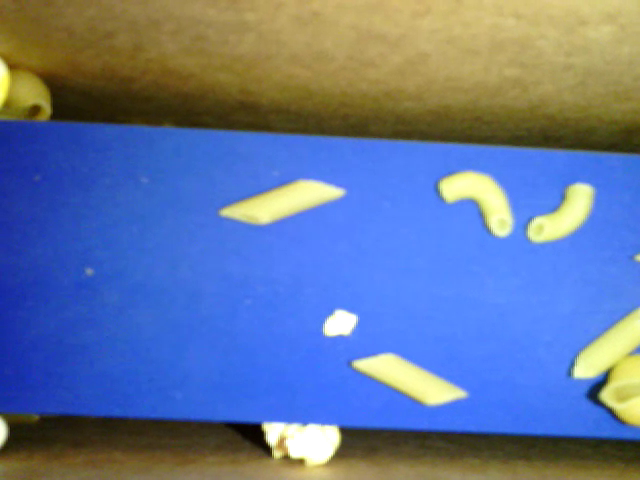elbow: (435, 170, 516, 237), (526, 180, 597, 246)
penne: (350, 348, 468, 409), (214, 177, 350, 227), (572, 311, 636, 382)
shell: (592, 355, 639, 427), (4, 70, 58, 127)
